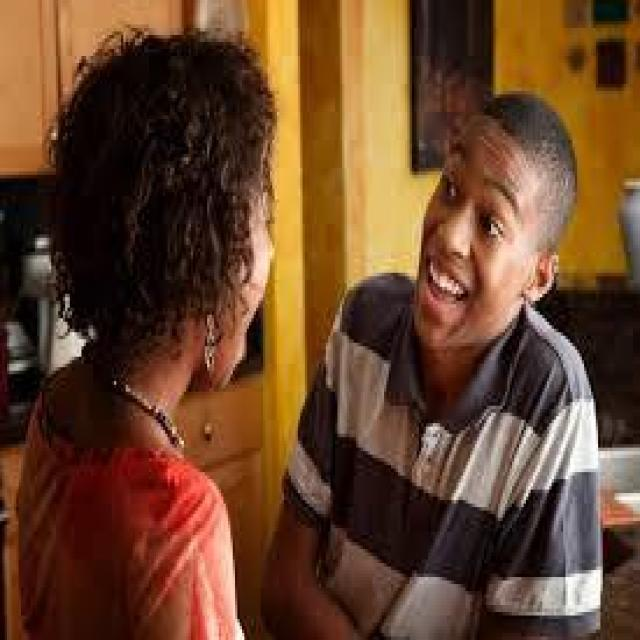person: (305, 45, 614, 633), (14, 18, 282, 636)
